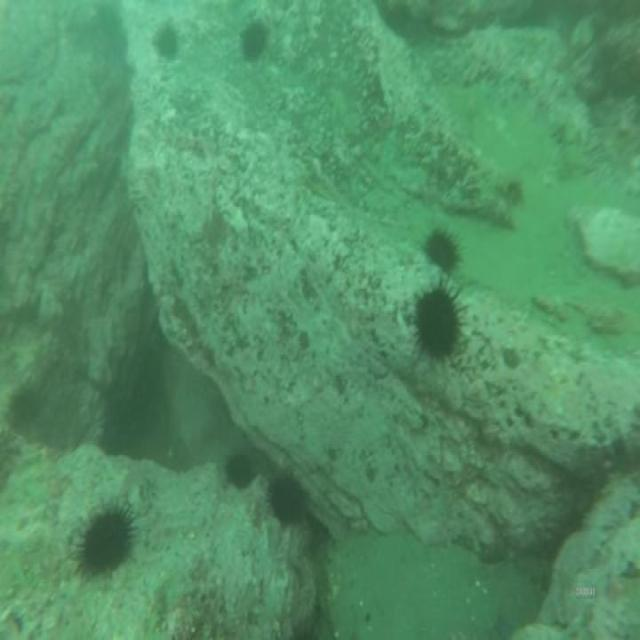echinus: (413, 288, 459, 354), (81, 514, 130, 570), (271, 484, 304, 522), (426, 229, 457, 267), (239, 22, 264, 60), (224, 454, 251, 485), (154, 25, 174, 57)
